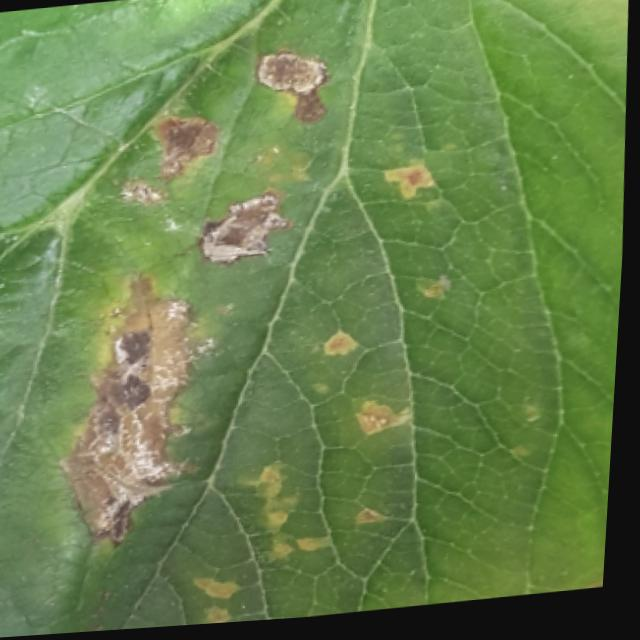Angular Leafspot: (51, 9, 470, 631)
